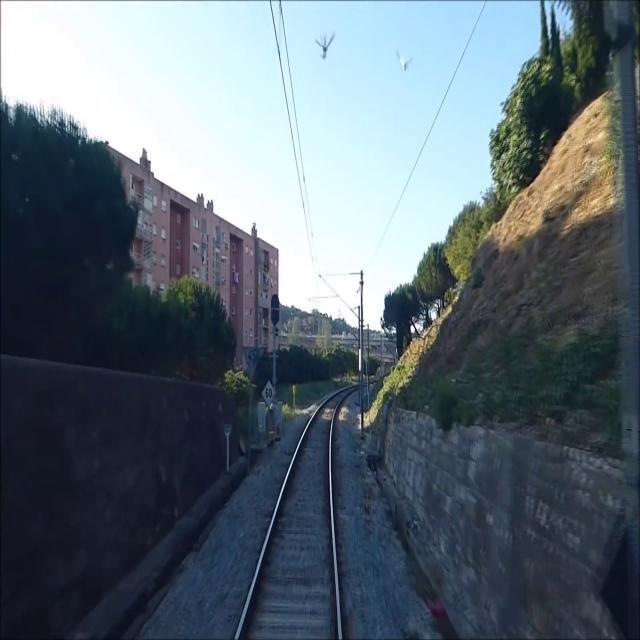rail-track: (240, 395, 340, 639)
